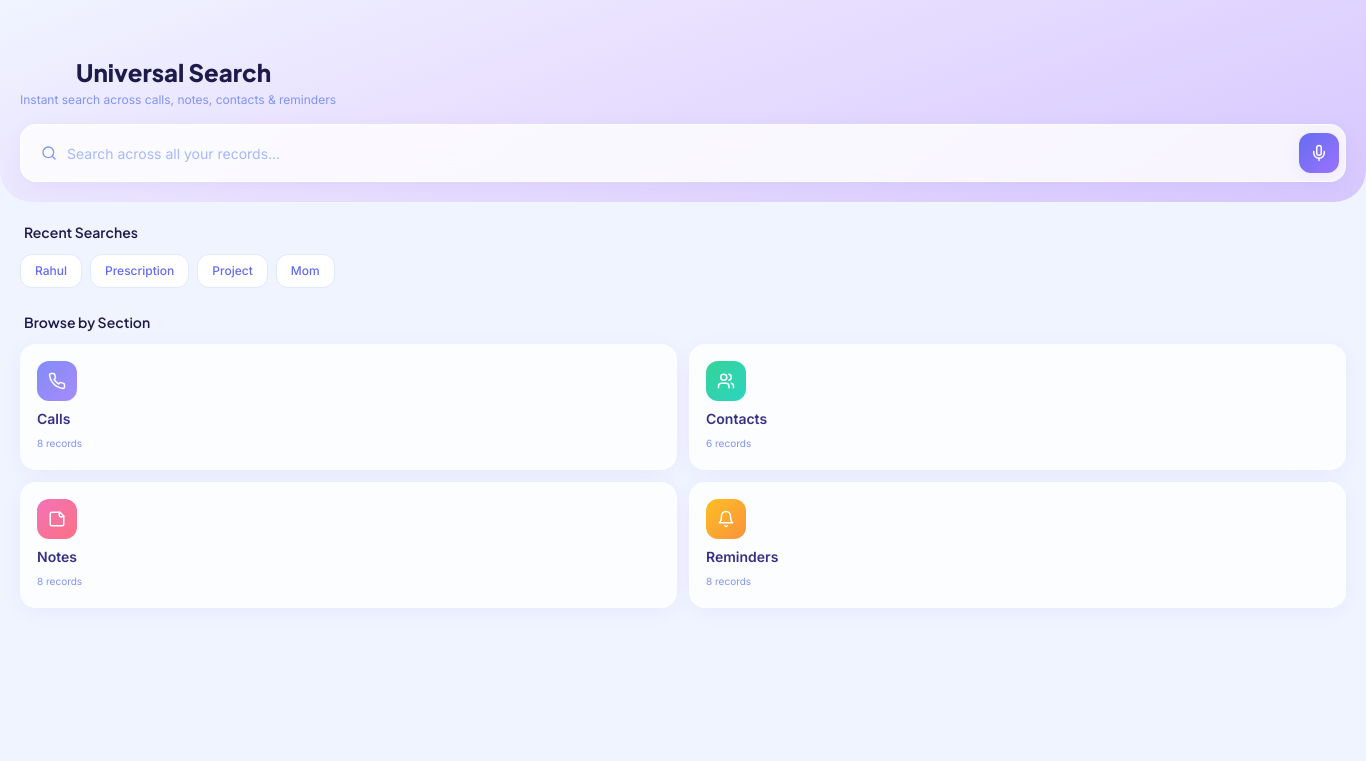
SearchScreen — Universal Search › searches across contacts, notes, calls, and reminders on query input
Type "Rahul" into the field with placeholder "Search across all your records..." at (659, 153), box [27,131,1291,175]
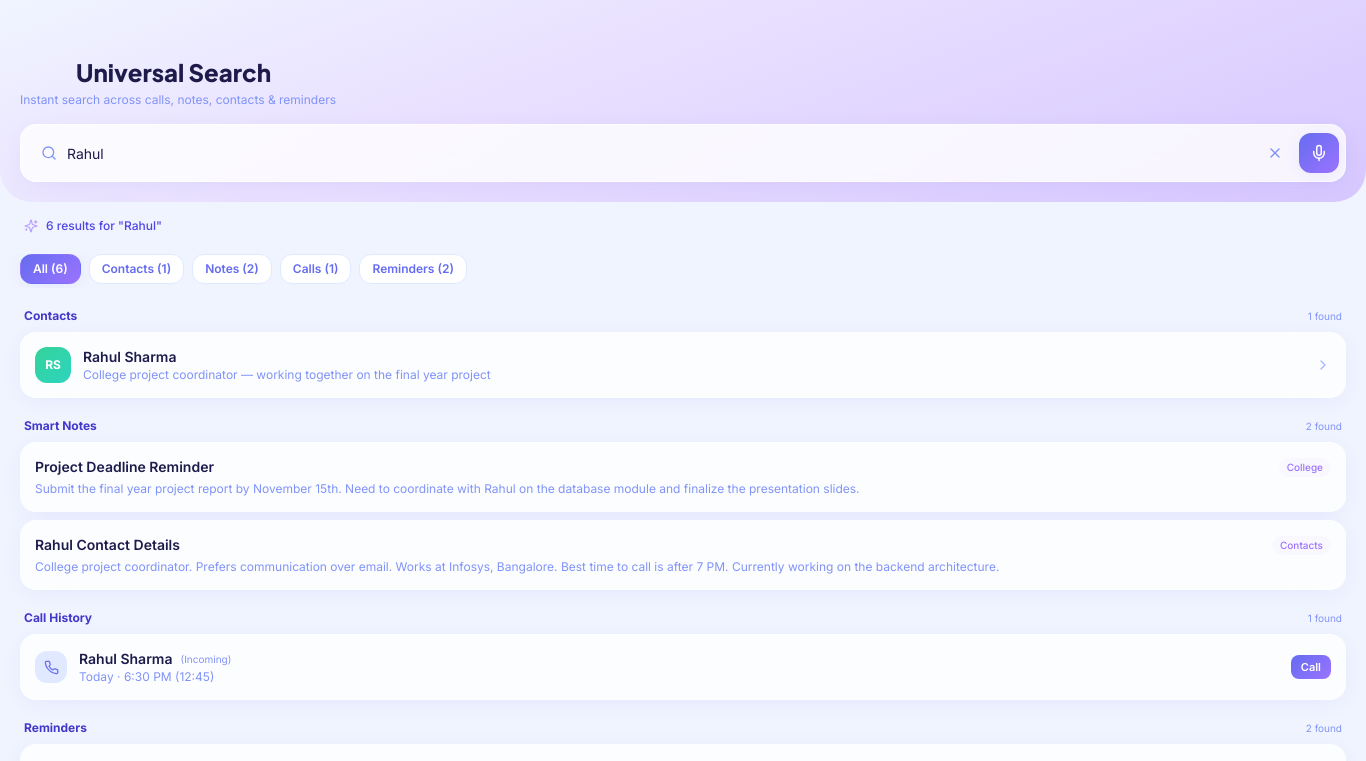
Expected: the text "6 results for \"Rahul\"" is shown, [46,218,162,234]
Expected: the 1st text "Rahul Sharma" is shown, [83,348,176,365]
